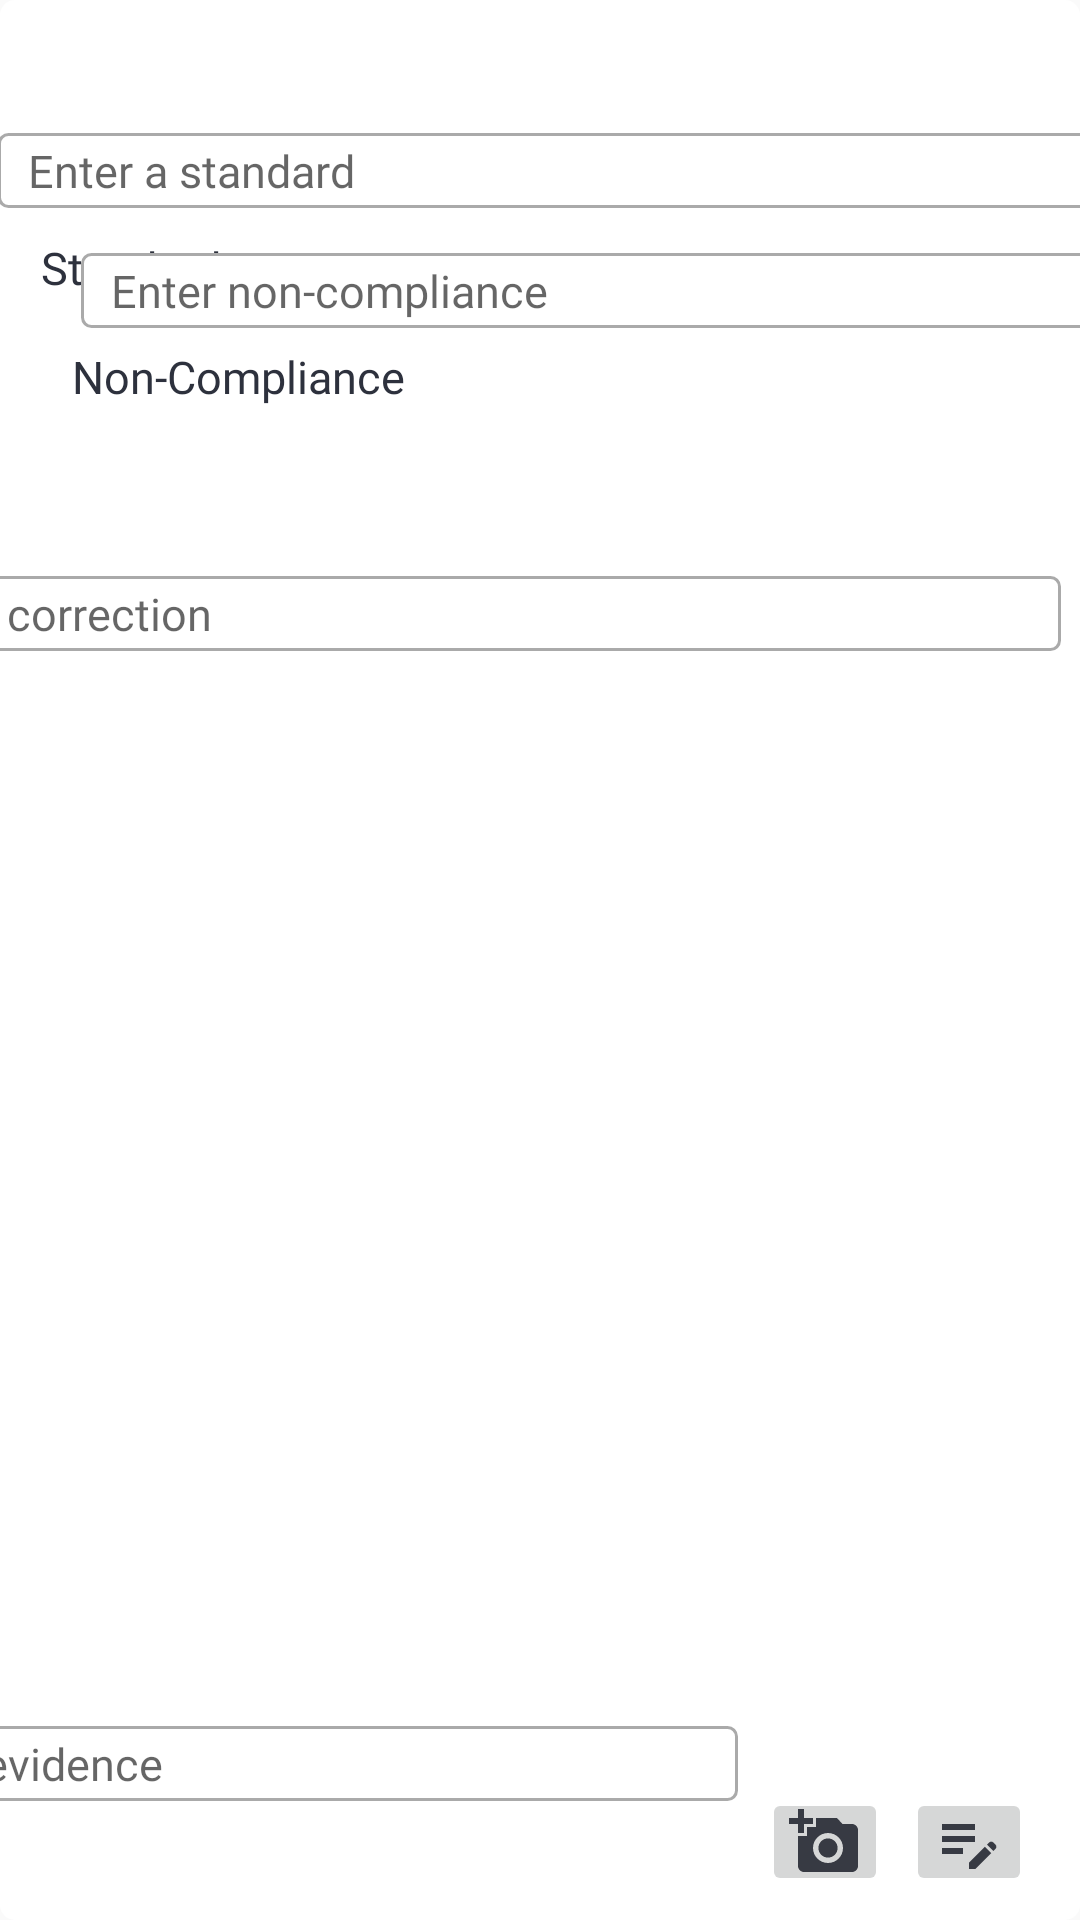

Icon click points for this 1080px×1920px phone screenshot, format (x=x, y=y):
add note: (x=969, y=1842)
add photo: (x=825, y=1842)
